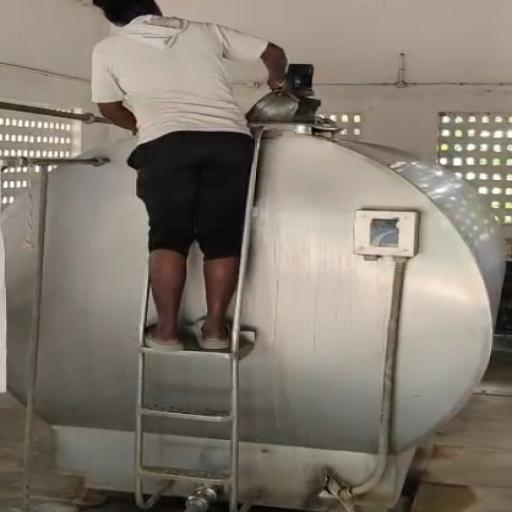silo: (4, 119, 508, 511)
vessel: (246, 92, 298, 123)
